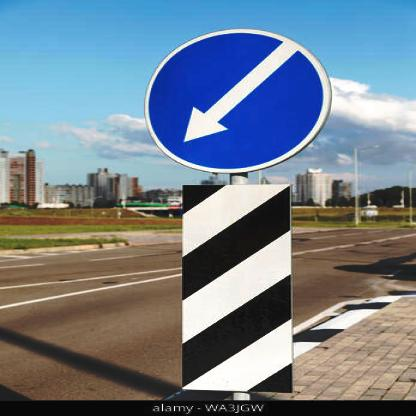Keep left: (142, 29, 332, 171)
